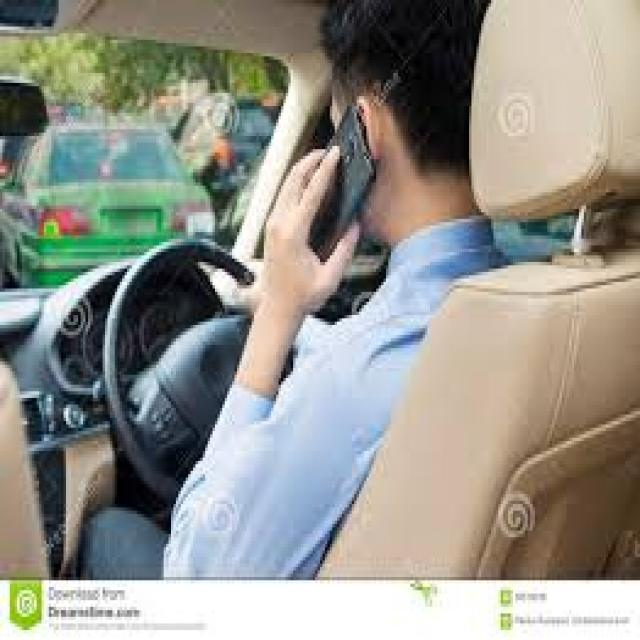Cellphone_calling: (256, 93, 384, 338)
